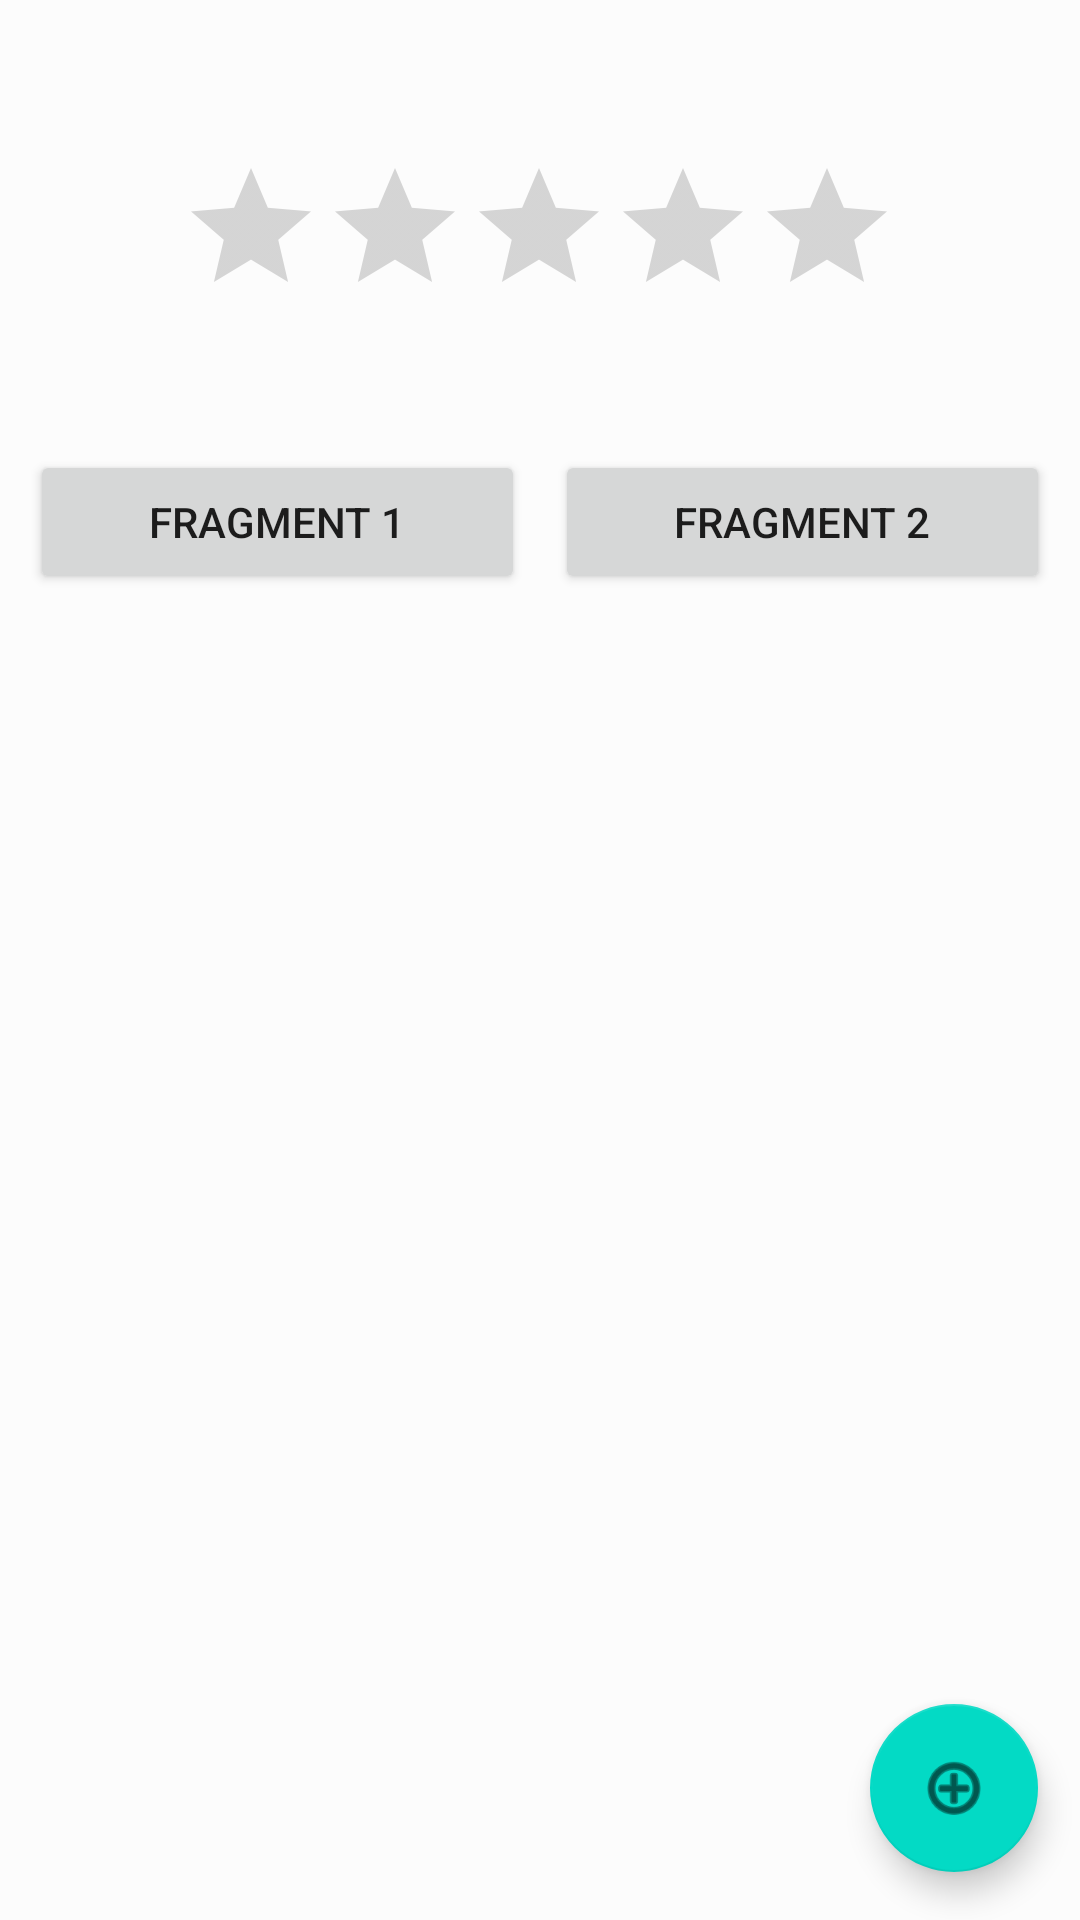

Icons on this 1080px×1920px Android screen, each with the point to tap as point (x, y):
add: point (954, 1788)
